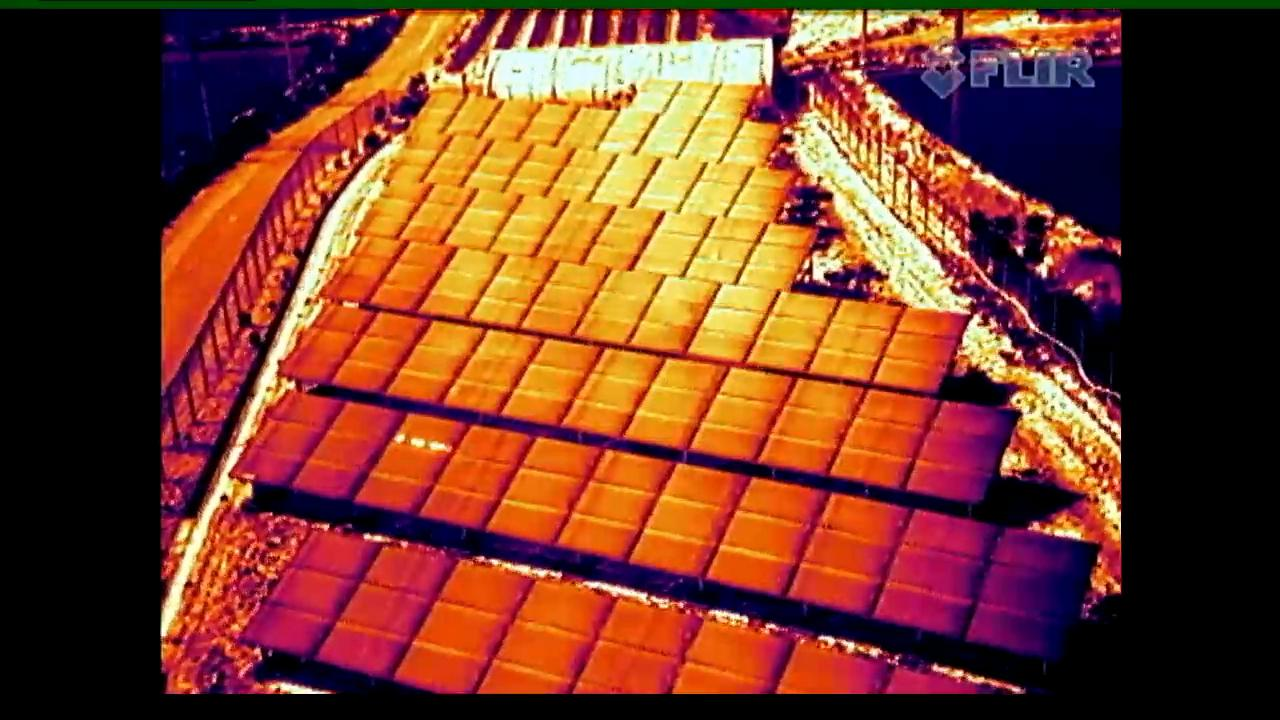hotspot: (350, 406, 469, 513)
